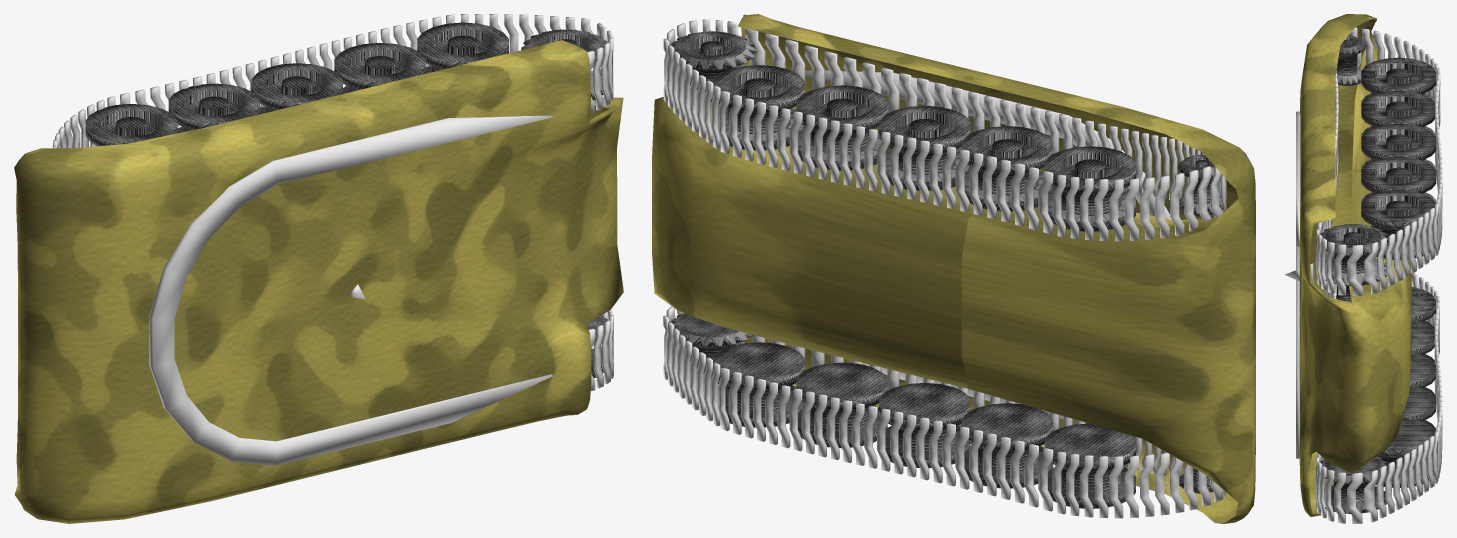
The model's file is Guardian.fbx.
3 views of the same model, side by side, from view 1: azimuth 30°, elevation 25°; view 2: azimuth 150°, elevation 25°; view 3: azimuth 270°, elevation 25° (orthographic). The views are drawn at different scales.
Parts seen in each view (by area): view 1: Body0, Color1, Wheels, Color0; view 2: Body0, Color0, Wheels, Color1; view 3: Body0, Wheels, Color0, Color1.
Boxes of the visible parts, left/top/right/bottom form: Body0: left=14, top=40, right=623, bottom=523; Color1: left=149, top=115, right=553, bottom=465; Wheels: left=85, top=22, right=607, bottom=377; Color0: left=52, top=14, right=613, bottom=390; Body0: left=652, top=14, right=1255, bottom=523; Color0: left=663, top=19, right=1226, bottom=518; Wheels: left=669, top=31, right=1224, bottom=508; Color1: left=791, top=70, right=1171, bottom=419; Body0: left=1299, top=14, right=1411, bottom=516; Wheels: left=1316, top=35, right=1436, bottom=513; Color0: left=1315, top=27, right=1442, bottom=523; Color1: left=1296, top=111, right=1300, bottom=458.
Size of the model in its own units: 127 by 72.83 by 35.2.
Materials: 2 (2 with a texture image).
